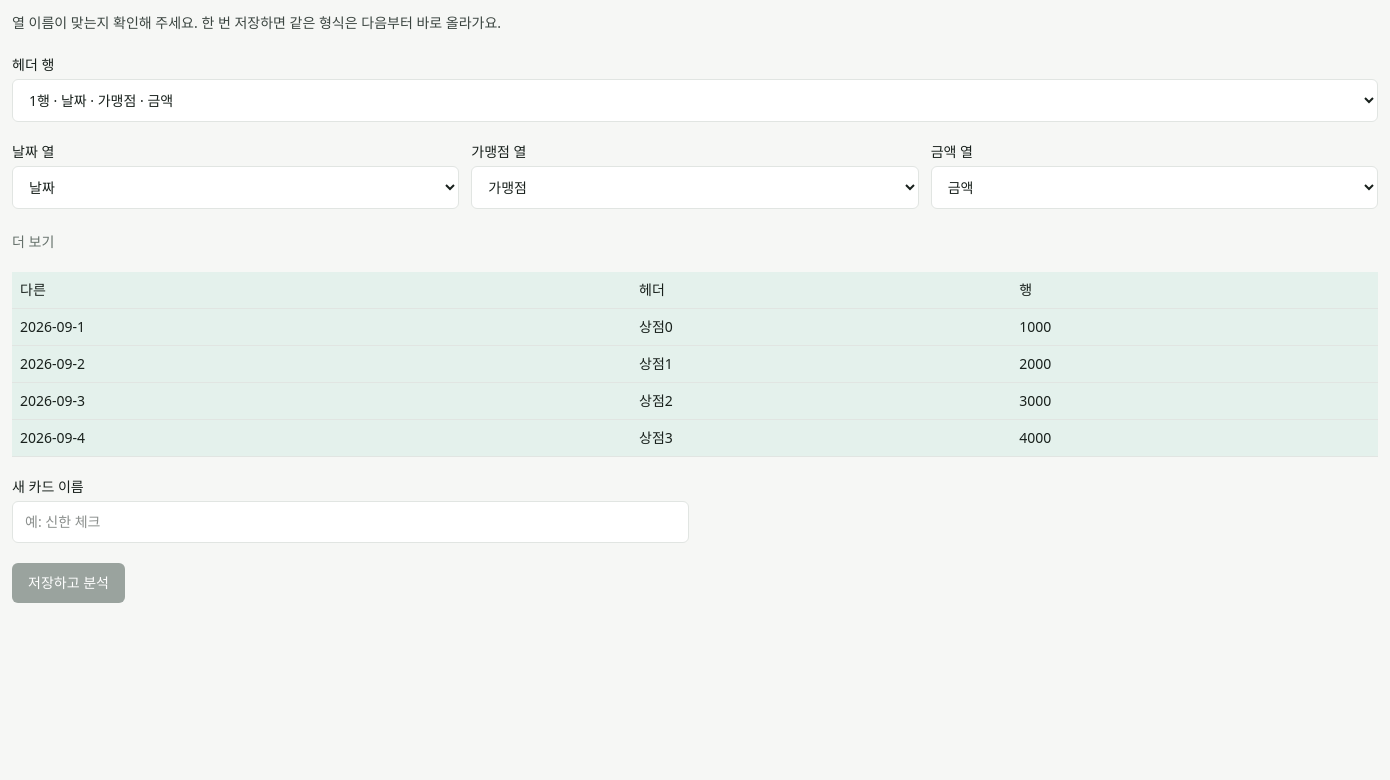
Test: MappingReview › 필수 열이 겹치면 비활성화하고 헤더 행 변경 시 선택지를 바꾼다
Select "날짜" in the dropdown labelled "가맹점 열" at (695, 187), box [471,166,919,209]
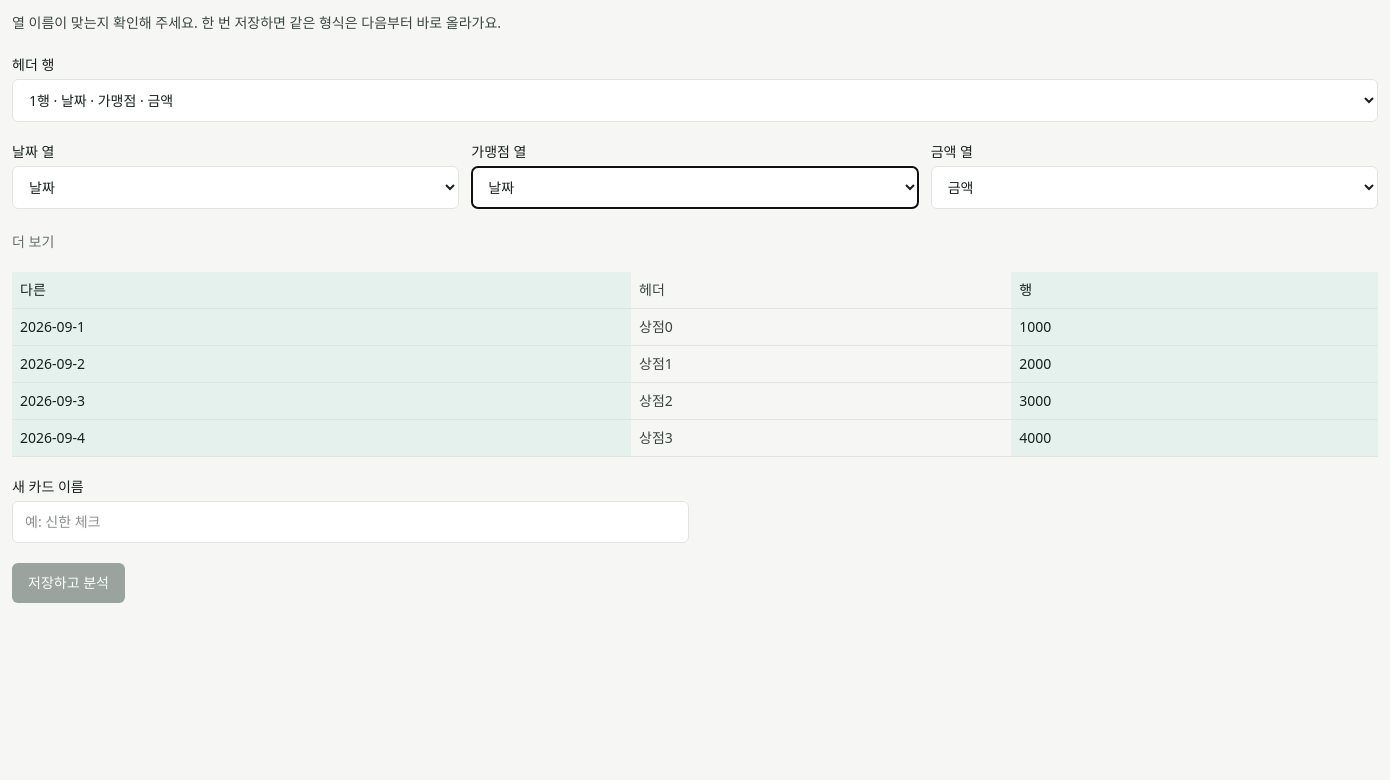
expect the button "저장하고 분석" is disabled: met, box [12,563,125,603]
Select "2행 · 다른 · 헤더 · 행" in the dropdown labelled "헤더 행" at (695, 100), box [12,79,1378,122]
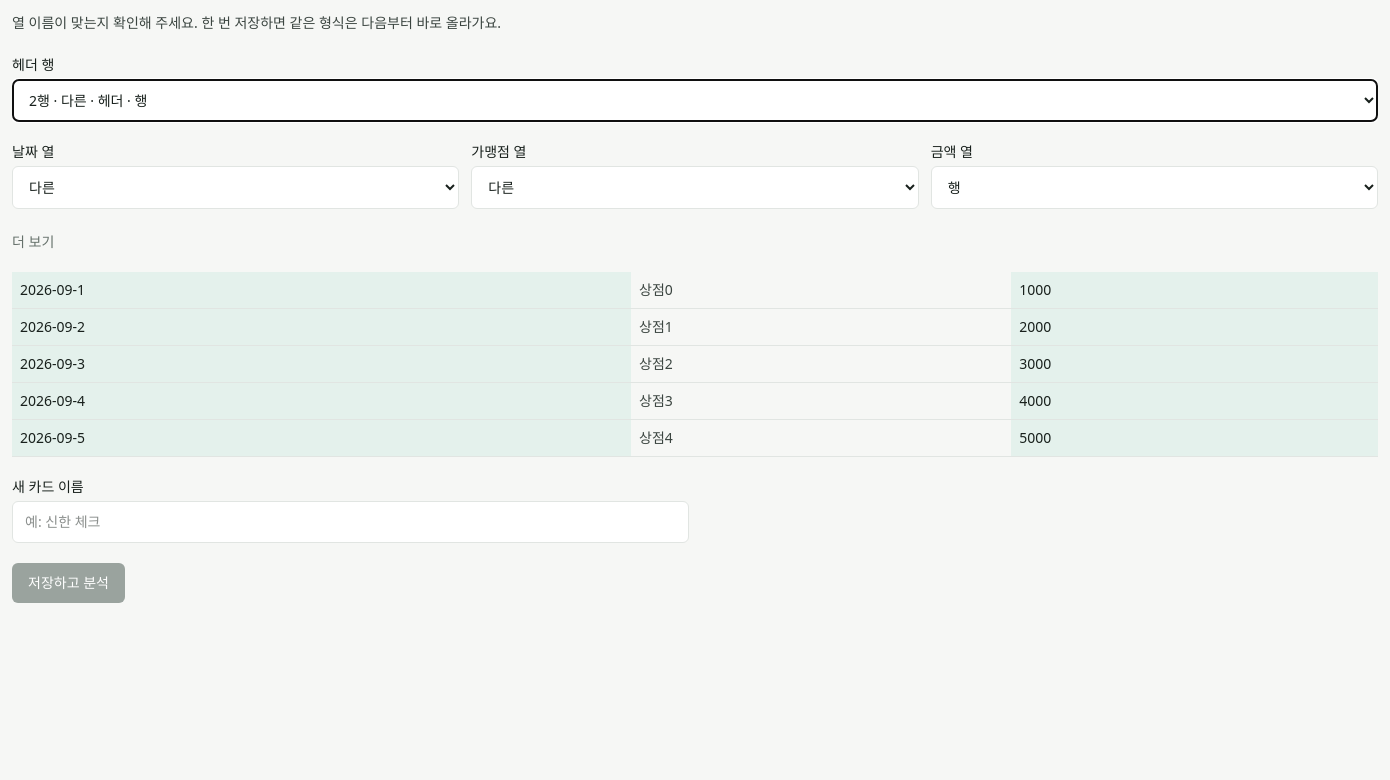
expect the dropdown labelled "날짜 열" shows "다른": met, box [12,166,459,209]
